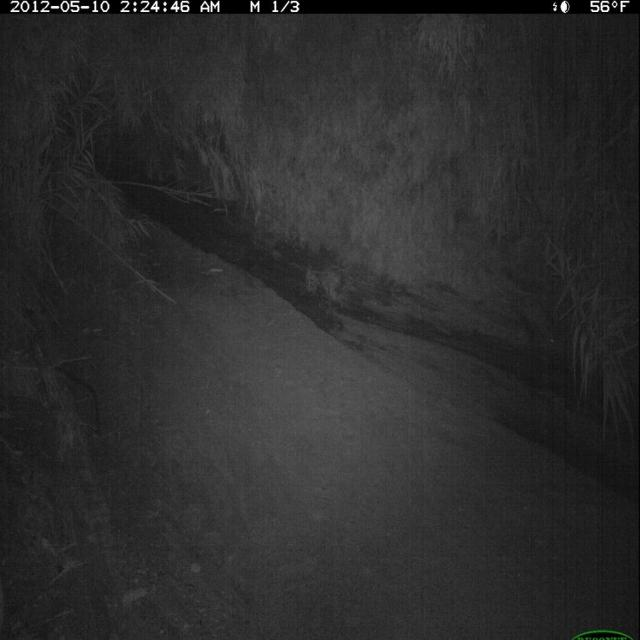opossum: (506, 290, 565, 361)
